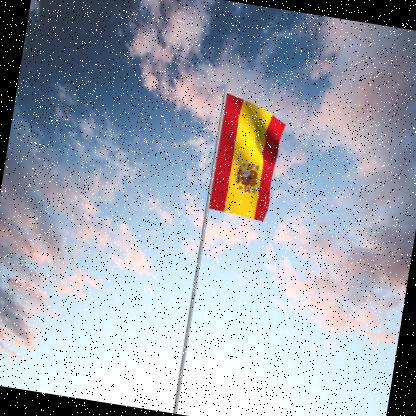es: (209, 94, 291, 224)
